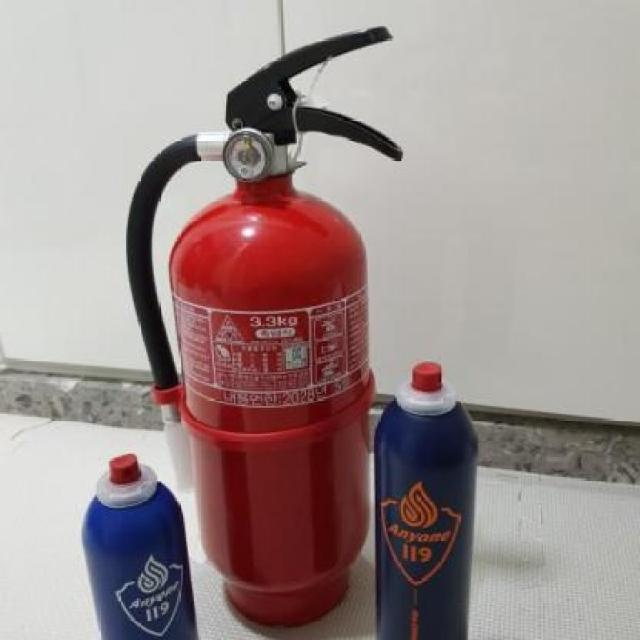fire extinguisher: (125, 25, 403, 627)
